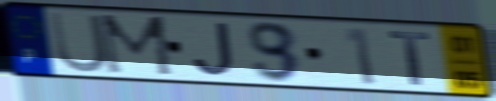1: (343, 26, 378, 87)
9: (244, 20, 305, 85)
J: (191, 21, 238, 78)
M: (98, 13, 178, 80)
T: (385, 29, 433, 87)
U: (46, 10, 112, 75)
